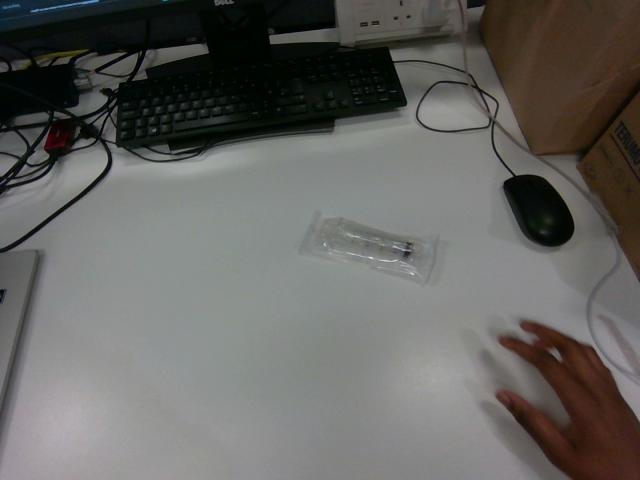syringe: (299, 212, 438, 284)
